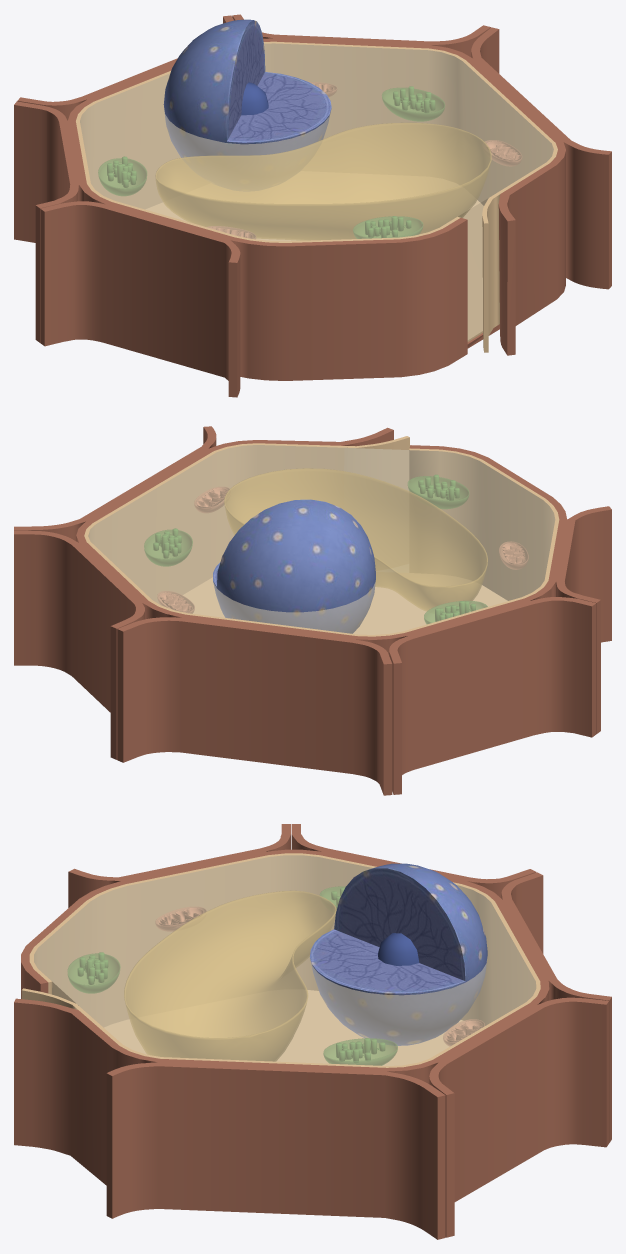
The picture shows the model from 3 angles, top to bottom: view 1: azimuth 30°, elevation 25°; view 2: azimuth 150°, elevation 25°; view 3: azimuth 270°, elevation 25°; orthographic projection. The views are drawn at different scales.
Visible parts, largest first — view 1: 对象007; view 2: 对象007; view 3: 对象007.
Part boxes in pixels (<box>): 对象007: <box>14,14,611,397</box>; 对象007: <box>14,426,611,795</box>; 对象007: <box>14,824,611,1239</box>.
Size of the model in its own units: 57.38 by 22.34 by 53.08.
2 materials, 2 textured.
